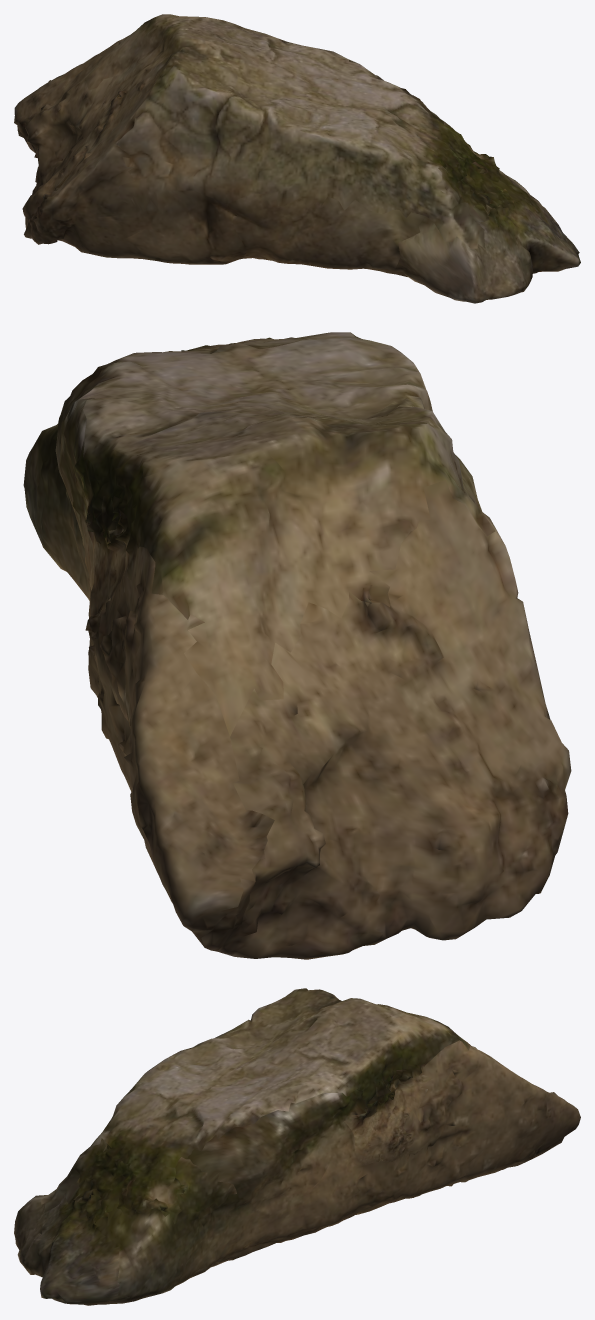
Rendered from rock_02.obj.
3 renders of one model, top to bottom at view 1: azimuth 30°, elevation 25°; view 2: azimuth 150°, elevation 25°; view 3: azimuth 270°, elevation 25°, orthographic. The views are drawn at different scales.
Visible parts, largest first — view 1: rock_moss_set_01_rock02; view 2: rock_moss_set_01_rock02; view 3: rock_moss_set_01_rock02.
Boxes of the visible parts, x1,y1,x2,y2 form: rock_moss_set_01_rock02: (14,14,580,303); rock_moss_set_01_rock02: (23,332,571,959); rock_moss_set_01_rock02: (14,988,580,1305).
Size of the model in its own units: 2.66 by 1.26 by 3.26.
Materials: 1 (1 with a texture image).
